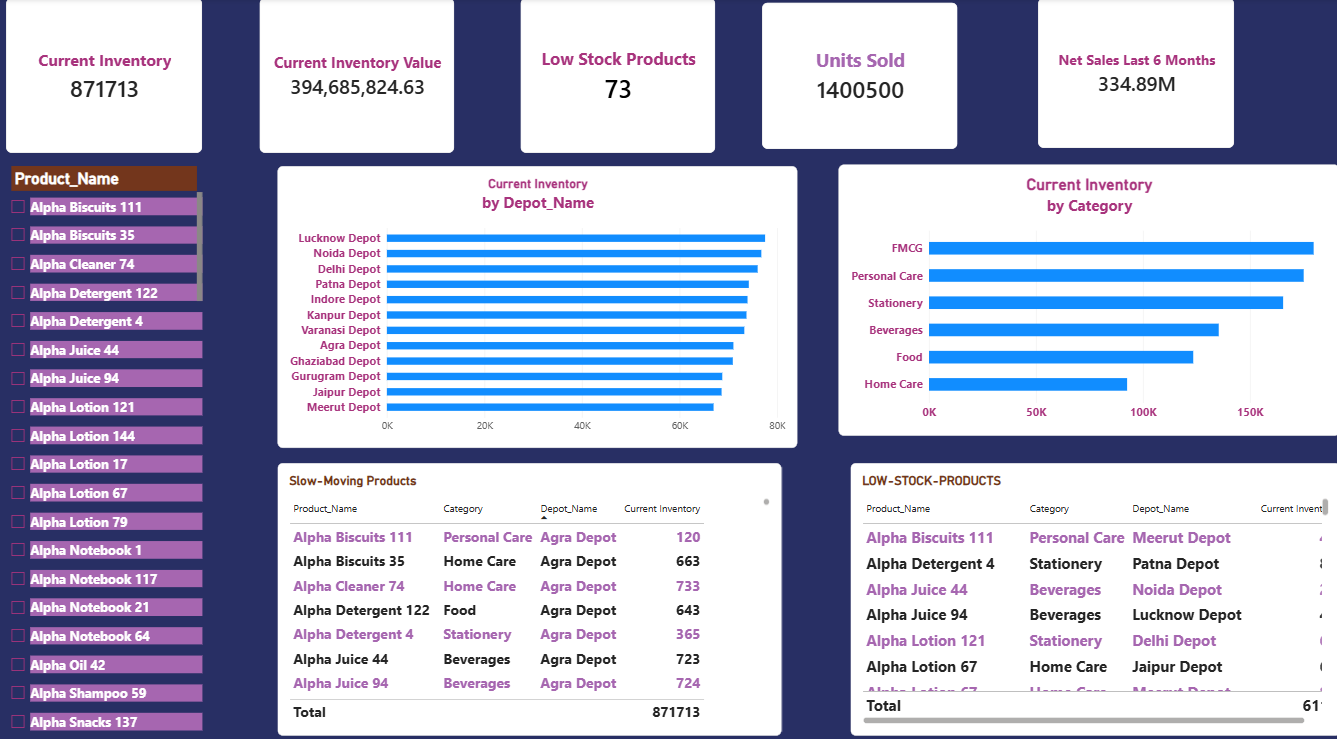

What the dashboard file says about the page in this screenshot:
{"tool":"powerbi","page":{"name":"INVENTORY ANALY","canvas":[1920,1080],"ordinal":1},"visuals":[{"type":"cardVisual","fields":{"Data":["Inventory.Current Inventory"]},"box":[9.1,0,281.6,222.6],"z":0},{"type":"cardVisual","fields":{"Data":["Inventory.Current Inventory Value"]},"box":[372.5,0,279.4,222.6],"z":1},{"type":"cardVisual","fields":{"Data":["Inventory.Low Stock Products"]},"box":[745,0,279.4,222.6],"z":2},{"type":"cardVisual","fields":{"Data":["Sales.Units Sold"]},"box":[1092.5,6.8,280,210],"z":3},{"type":"barChart","fields":{"Category":["Depot_Master.Depot_Name"],"Y":["Inventory.Current Inventory"]},"box":[397.5,240.8,745,404.3],"z":4},{"type":"barChart","fields":{"Category":["Product_Master.Category"],"Y":["Inventory.Current Inventory"]},"box":[1201.5,238.5,717.7,388.4],"z":5},{"type":"cardVisual","fields":{"Data":["Sales.Net Sales Last 6 Months"]},"box":[1487.7,0,281.6,215.8],"z":8},{"type":"tableEx","title":"Slow-Moving Products","fields":{"Values":["Product_Master.Product_Name","Product_Master.Category","Depot_Master.Depot_Name","Inventory.Current Inventory"]},"box":[397.5,665.5,722.3,390.7],"z":9},{"type":"tableEx","title":"LOW-STOCK-PRODUCTS","fields":{"Values":["Product_Master.Product_Name","Product_Master.Category","Depot_Master.Depot_Name","Inventory.Current Inventory"]},"box":[1217.4,665.5,701.8,390.7],"z":10},{"type":"slicer","fields":{"Values":["Product_Master.Product_Name"]},"box":[9.1,240.8,281.6,838.1],"z":11}]}

Visuals, with their boxes in screenshot pixels (x1, y1, x2, y2), scaled from the page's 1920x1080 canvas onto the 1337x739 screenshot:
cardVisual - Inventory.Current Inventory: [x1=6, y1=0, x2=202, y2=152]
cardVisual - Inventory.Current Inventory Value: [x1=259, y1=0, x2=454, y2=152]
cardVisual - Inventory.Low Stock Products: [x1=519, y1=0, x2=713, y2=152]
cardVisual - Sales.Units Sold: [x1=761, y1=5, x2=956, y2=148]
barChart - Depot_Master.Depot_Name x Inventory.Current Inventory: [x1=277, y1=165, x2=796, y2=441]
barChart - Product_Master.Category x Inventory.Current Inventory: [x1=837, y1=163, x2=1336, y2=429]
cardVisual - Sales.Net Sales Last 6 Months: [x1=1036, y1=0, x2=1232, y2=148]
"Slow-Moving Products" tableEx: [x1=277, y1=455, x2=780, y2=723]
"LOW-STOCK-PRODUCTS" tableEx: [x1=848, y1=455, x2=1336, y2=723]
slicer - Product_Master.Product_Name: [x1=6, y1=165, x2=202, y2=738]
